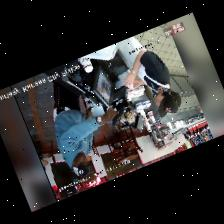person: (53, 79, 117, 175), (119, 36, 181, 116)
